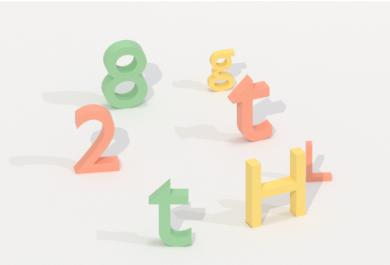2: (71, 104, 121, 176)
8: (99, 37, 151, 110)
H: (238, 144, 309, 230)
L: (302, 136, 338, 185)
g: (204, 45, 237, 94)
t: (147, 177, 198, 250), (226, 74, 276, 145)
